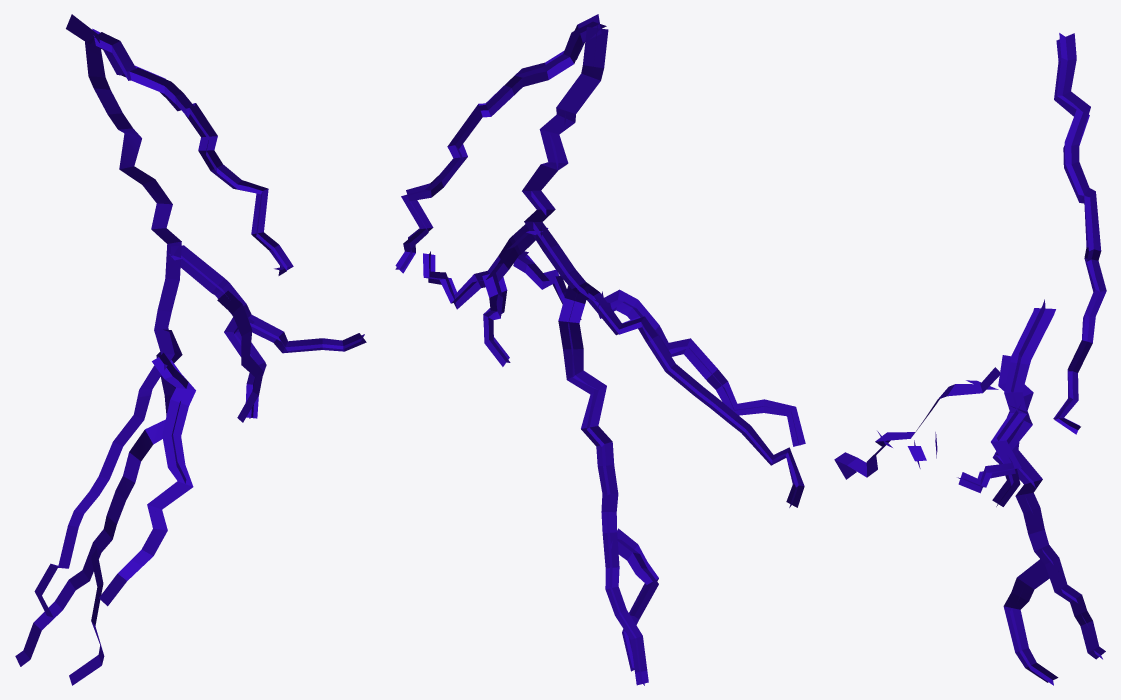
Rendered from SM_EFF_Lightning_F_01.mo.fbx.
3 renders of one model, left to right at view 1: azimuth 30°, elevation 25°; view 2: azimuth 150°, elevation 25°; view 3: azimuth 270°, elevation 25°, orthographic. The views are drawn at different scales.
Parts seen in each view (by area): view 1: SM_EFF_Lightning_F_01.mo; view 2: SM_EFF_Lightning_F_01.mo; view 3: SM_EFF_Lightning_F_01.mo.
Part boxes in pixels (x1=…): SM_EFF_Lightning_F_01.mo: x1=15, y1=14, x2=366, y2=685; SM_EFF_Lightning_F_01.mo: x1=395, y1=14, x2=805, y2=685; SM_EFF_Lightning_F_01.mo: x1=834, y1=33, x2=1106, y2=685.
Bounding box in the file's own units: 4.78 × 8.42 × 3.06.
